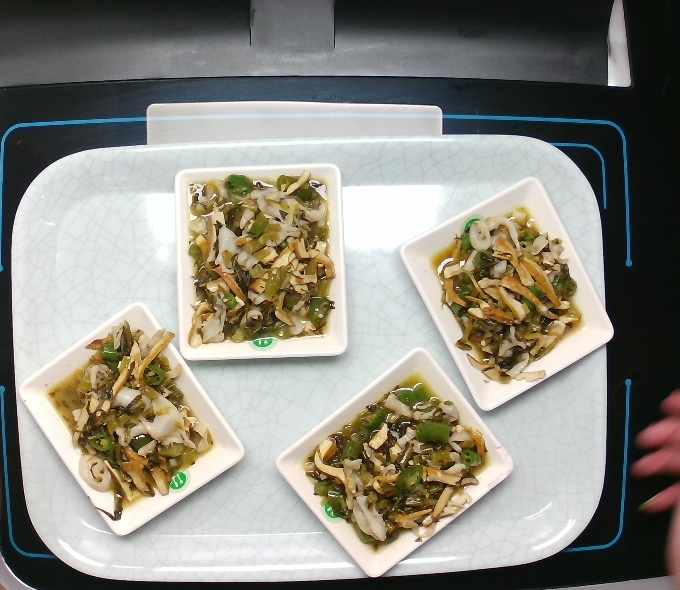wcq-YouYuXueCaiDouGan: (53, 326, 214, 526), (309, 386, 488, 548), (425, 206, 578, 372), (185, 179, 338, 345)
